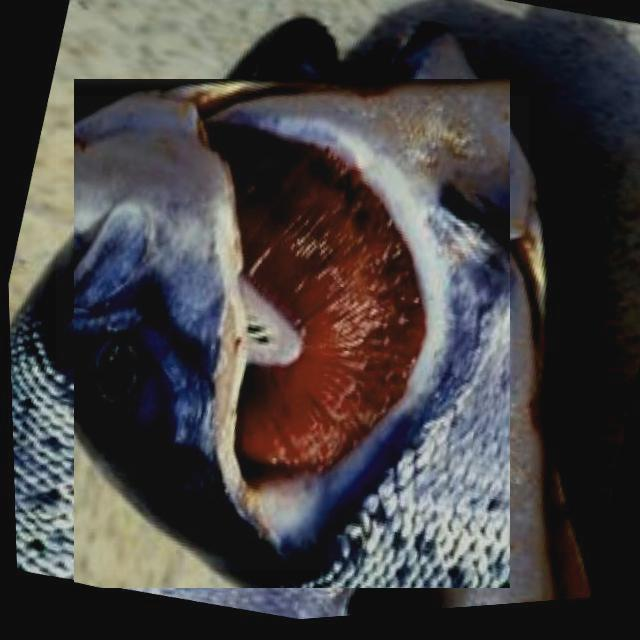Gill Disease: (56, 96, 529, 570)
